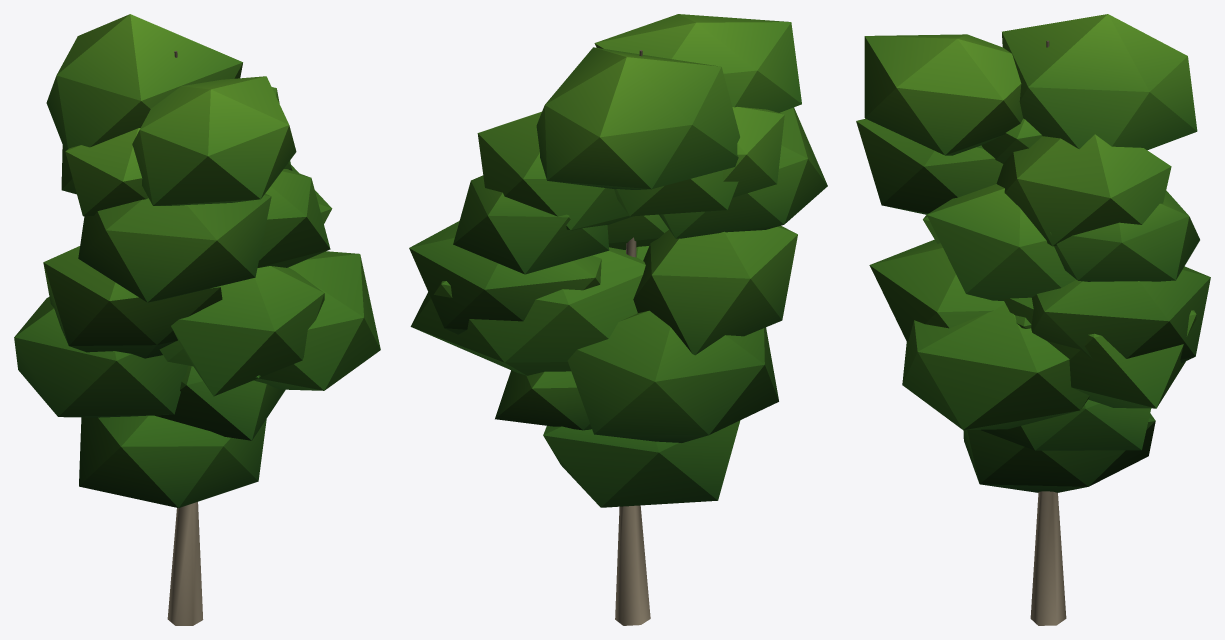
File: red-alder-distant.glb
The picture shows the model from 3 angles, left to right: view 1: azimuth 30°, elevation 25°; view 2: azimuth 150°, elevation 25°; view 3: azimuth 270°, elevation 25°; orthographic projection.
Parts seen in each view (by area): view 1: red-alder-distant.Leaves, red-alder-distant.Bark; view 2: red-alder-distant.Leaves, red-alder-distant.Bark; view 3: red-alder-distant.Leaves, red-alder-distant.Bark.
Boxes of the visible parts, box(x1,y1,x2,y2) form: red-alder-distant.Leaves: box(14, 14, 380, 507); red-alder-distant.Bark: box(167, 51, 203, 625); red-alder-distant.Leaves: box(409, 14, 827, 507); red-alder-distant.Bark: box(615, 50, 650, 625); red-alder-distant.Leaves: box(856, 14, 1210, 492); red-alder-distant.Bark: box(1030, 40, 1066, 625).
Bounding box in the file's own units: 7.43 × 13.01 × 7.05.
